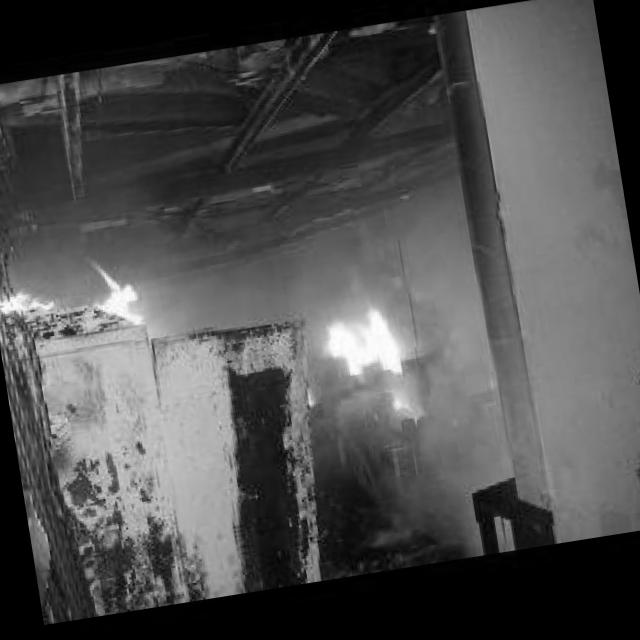fire: (318, 301, 400, 381), (79, 250, 146, 330), (0, 284, 54, 315), (392, 394, 410, 410), (307, 388, 314, 406)
smoke: (377, 256, 508, 507)
